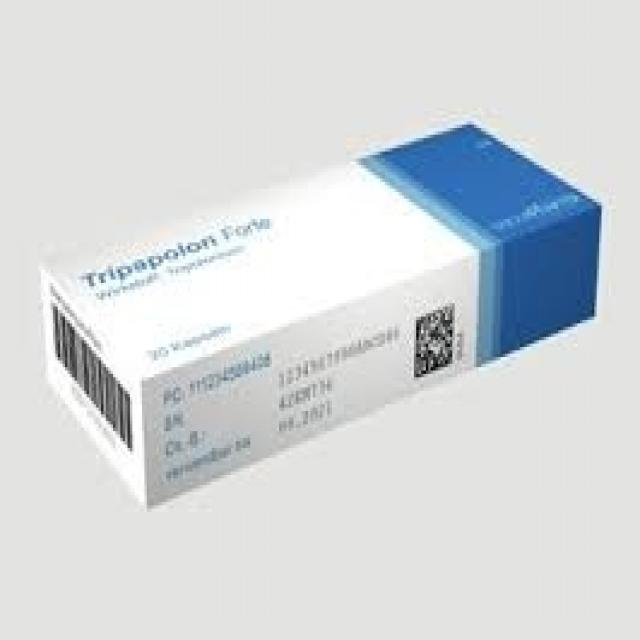Data-Matrix: (412, 297, 457, 381)
